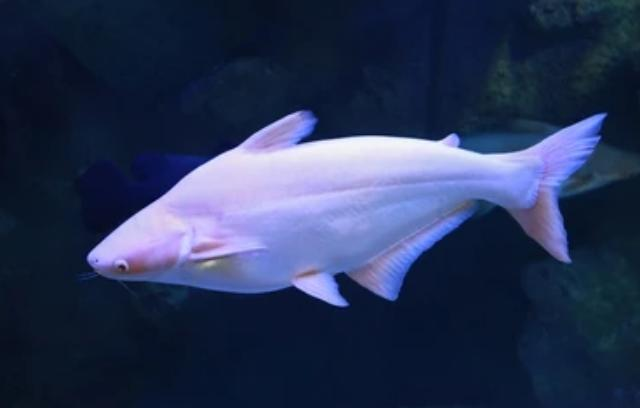Sirip Anal: (359, 197, 487, 309)
Sirip Dada: (194, 240, 280, 274)
Sirip Ekor: (518, 109, 614, 267)
Sirip Perut: (288, 266, 358, 316)
Sirip Punggung: (240, 105, 324, 155)
